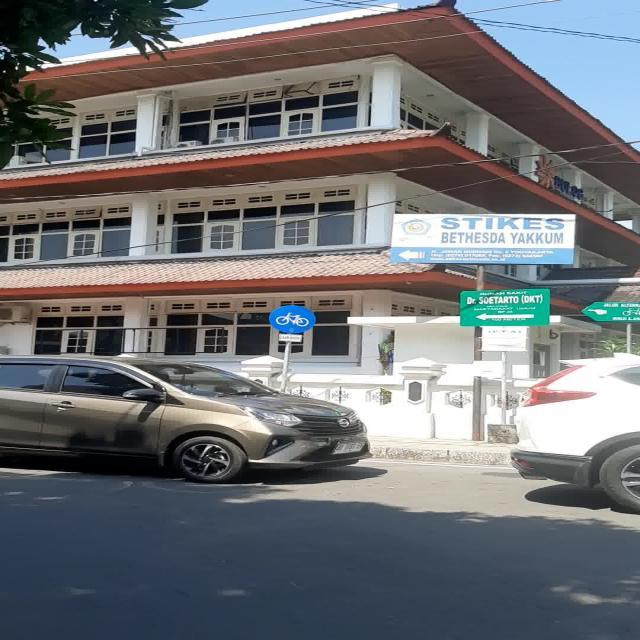Jalur Sepeda: (268, 304, 318, 334)
